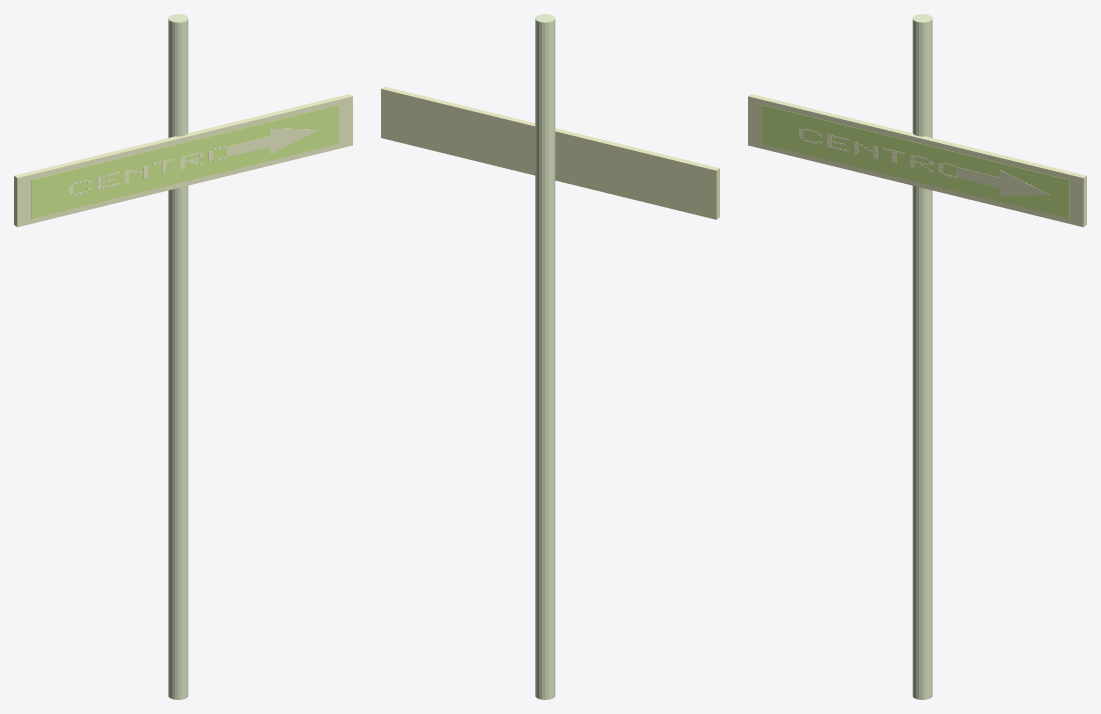
The model's file is sign_centro_arrow_right.glb.
3 renders of one model, left to right at view 1: azimuth 30°, elevation 25°; view 2: azimuth 150°, elevation 25°; view 3: azimuth 330°, elevation 25°, orthographic.
Parts seen in each view (by area): view 1: pole, layer_1_00, plate_base_00, layer_2_94; view 2: plate_base_00, pole; view 3: pole, layer_1_00, plate_base_00, layer_2_94.
Boxes of the visible parts, x1,y1,x2,y2 form: pole: (168,14,188,699); layer_1_00: (31,105,338,218); plate_base_00: (14,94,352,227); layer_2_94: (270,128,319,154); plate_base_00: (381,86,719,219); pole: (535,14,555,699); pole: (912,14,932,699); layer_1_00: (762,105,1069,218); plate_base_00: (748,94,1086,227); layer_2_94: (1000,170,1049,195).
Bounding box in the file's own units: 1.14 × 2.2 × 0.0725.
